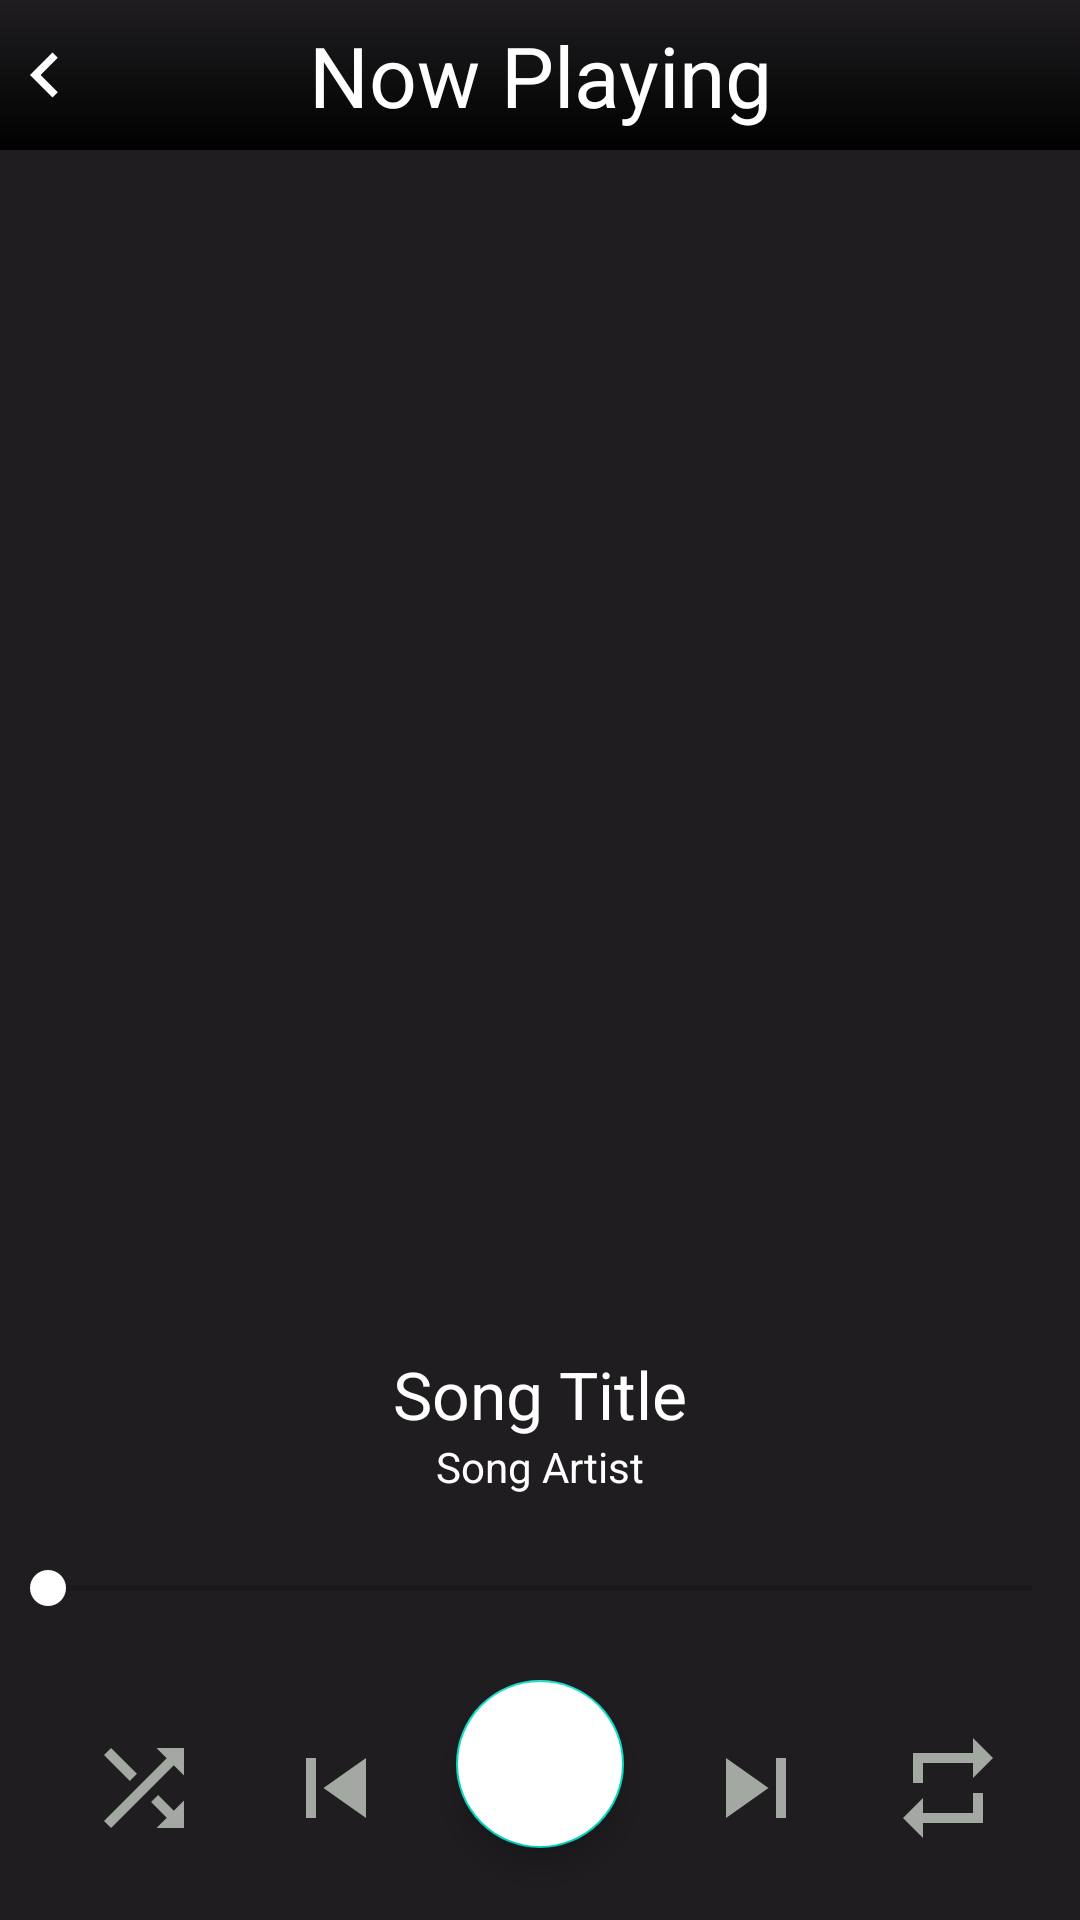

Named icons in this screenshot (1080 x 1920) and their centers, [x,y]:
repeat off: [948,1788]
shuffle off: [144,1788]
skip next: [756,1788]
skip previous: [336,1788]
